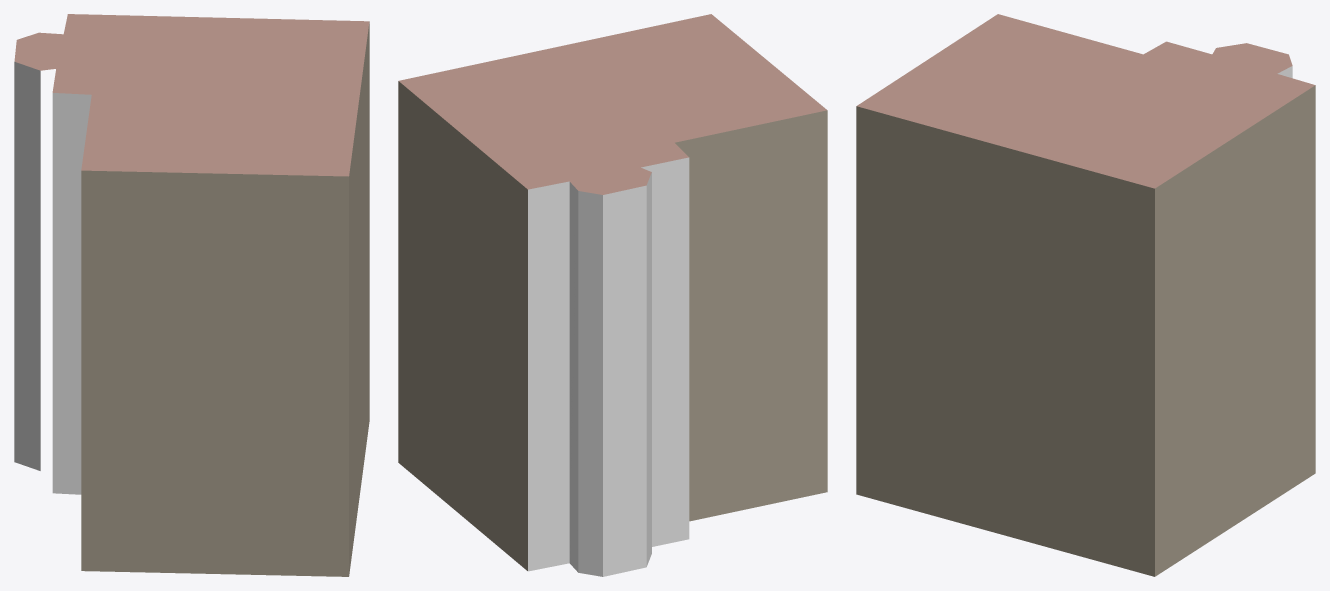
3 views of the same model, side by side, from view 1: azimuth 30°, elevation 25°; view 2: azimuth 150°, elevation 25°; view 3: azimuth 270°, elevation 25° (orthographic). The views are drawn at different scales.
Visible parts, largest first — view 1: tuile; view 2: tuile; view 3: tuile.
Boxes of the visible parts, box(x1,y1,x2,y2) form: tuile: box(14, 14, 369, 576); tuile: box(398, 14, 827, 576); tuile: box(856, 14, 1315, 576).
Bounding box in the file's own units: 10.8 × 11.2 × 12.
